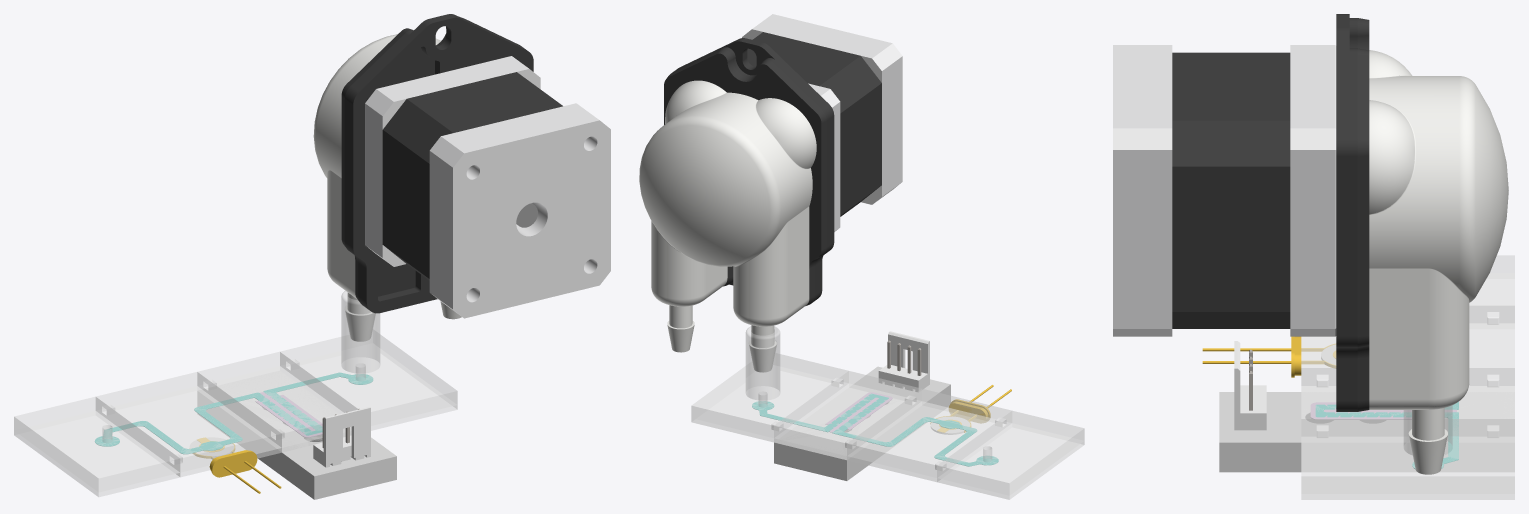
Rendered from just chips.dae.
The picture shows the model from 3 angles, left to right: view 1: azimuth 30°, elevation 25°; view 2: azimuth 150°, elevation 25°; view 3: azimuth 270°, elevation 25°; orthographic projection. The views are drawn at different scales.
Visible parts, largest first — view 1: nema14_base, top (×2), Motor Mount, bottom (×2), nema14_centro, PDMS_measurement, Piezo aluminium, PDMS_extraction, glass_measurement, nema14_techo, Housing, glass_extraction (+4 smaller); view 2: Housing, top (×2), Motor Mount, bottom (×2), PDMS_measurement, nema14_centro, Piezo aluminium, PDMS_extraction, nema14_base, glass_measurement, glass_extraction, water (+4 smaller); view 3: Housing, nema14_centro, nema14_base, top (×2), Piezo aluminium, nema14_techo, Motor Mount, bottom (×2), PDMS_extraction, PDMS_measurement, glass_measurement, glass_extraction (+5 smaller).
Boxes of the visible parts, bbox=[...] form: nema14_base: bbox=[429, 103, 610, 318]; top (×2): bbox=[14, 291, 457, 492]; Motor Mount: bbox=[341, 14, 533, 313]; bottom (×2): bbox=[14, 349, 457, 496]; nema14_centro: bbox=[382, 72, 562, 280]; PDMS_measurement: bbox=[96, 372, 283, 472]; Piezo aluminium: bbox=[197, 371, 396, 499]; PDMS_extraction: bbox=[197, 351, 357, 447]; glass_measurement: bbox=[114, 386, 281, 476]; nema14_techo: bbox=[365, 56, 540, 266]; Housing: bbox=[313, 34, 440, 298]; glass_extraction: bbox=[216, 366, 351, 452]; Housing: bbox=[639, 80, 816, 326]; top (×2): bbox=[691, 326, 1084, 495]; Motor Mount: bbox=[664, 38, 834, 305]; bottom (×2): bbox=[691, 367, 1084, 499]; PDMS_measurement: bbox=[845, 388, 1011, 477]; nema14_centro: bbox=[747, 32, 881, 216]; Piezo aluminium: bbox=[774, 366, 950, 480]; PDMS_extraction: bbox=[772, 371, 921, 455]; nema14_base: bbox=[742, 14, 902, 204]; glass_measurement: bbox=[847, 401, 995, 481]; glass_extraction: bbox=[774, 384, 905, 459]; water: bbox=[752, 393, 998, 466]; Housing: bbox=[1369, 50, 1508, 409]; nema14_centro: bbox=[1172, 52, 1290, 328]; nema14_base: bbox=[1113, 45, 1172, 336]; top (×2): bbox=[1301, 255, 1514, 493]; Piezo aluminium: bbox=[1219, 392, 1514, 472]; nema14_techo: bbox=[1290, 45, 1336, 336]; Motor Mount: bbox=[1336, 14, 1369, 411]; bottom (×2): bbox=[1301, 273, 1514, 499]; PDMS_extraction: bbox=[1301, 368, 1514, 437]; PDMS_measurement: bbox=[1301, 306, 1514, 386]; glass_measurement: bbox=[1301, 323, 1514, 367]; glass_extraction: bbox=[1301, 386, 1514, 418].
Size of the model in its own units: 0.0995 by 0.0612 by 0.0853.
